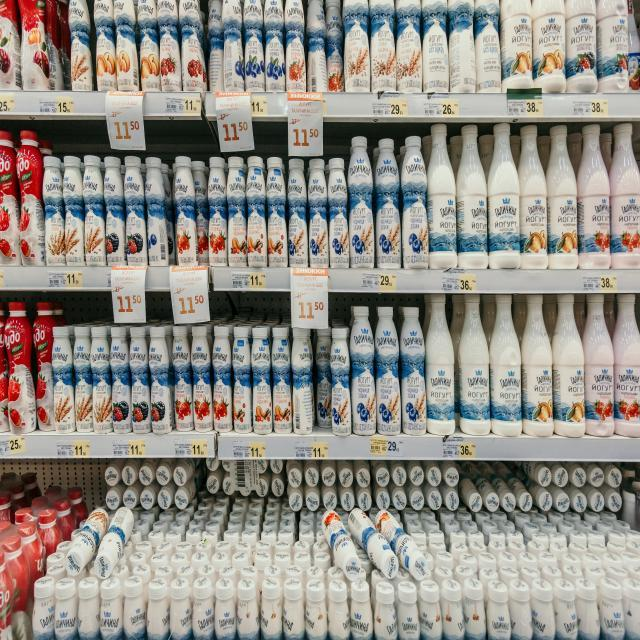Imprecise: (321, 503, 428, 584), (65, 505, 136, 581), (191, 153, 214, 270), (312, 322, 334, 436)
